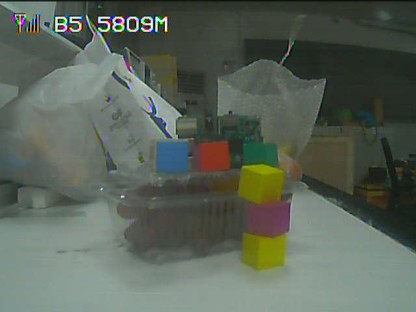b: (155, 141, 187, 173)
g: (244, 145, 278, 166)
r: (194, 144, 227, 169)
